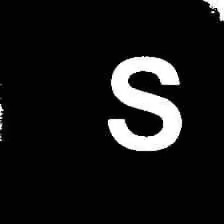LTR_S: (104, 49, 186, 158)
